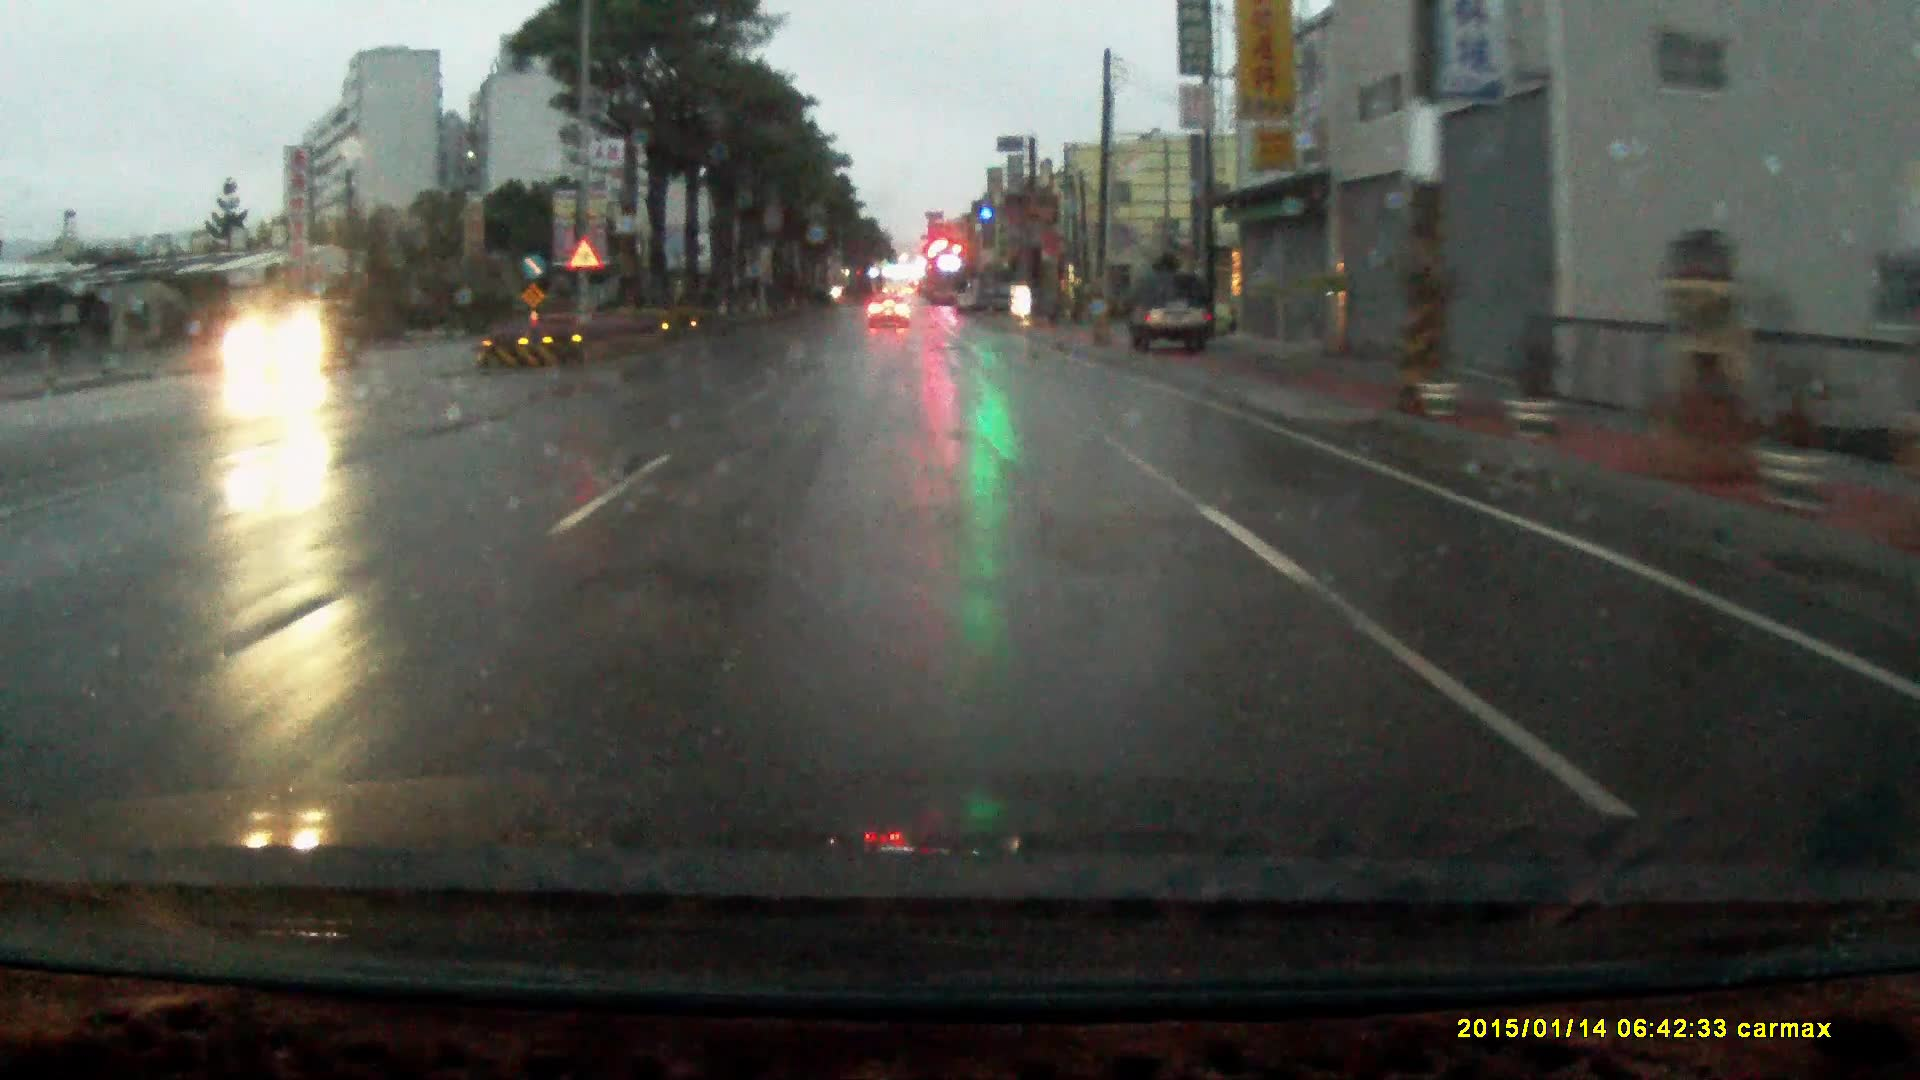vehicle: (218, 301, 371, 380), (1127, 276, 1218, 361), (868, 299, 913, 335)
